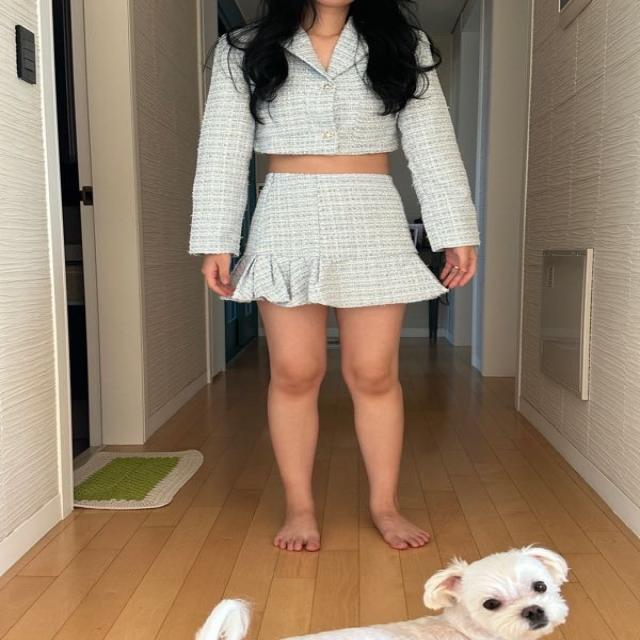jacket: (188, 13, 475, 255)
skirt: (223, 170, 448, 306)
